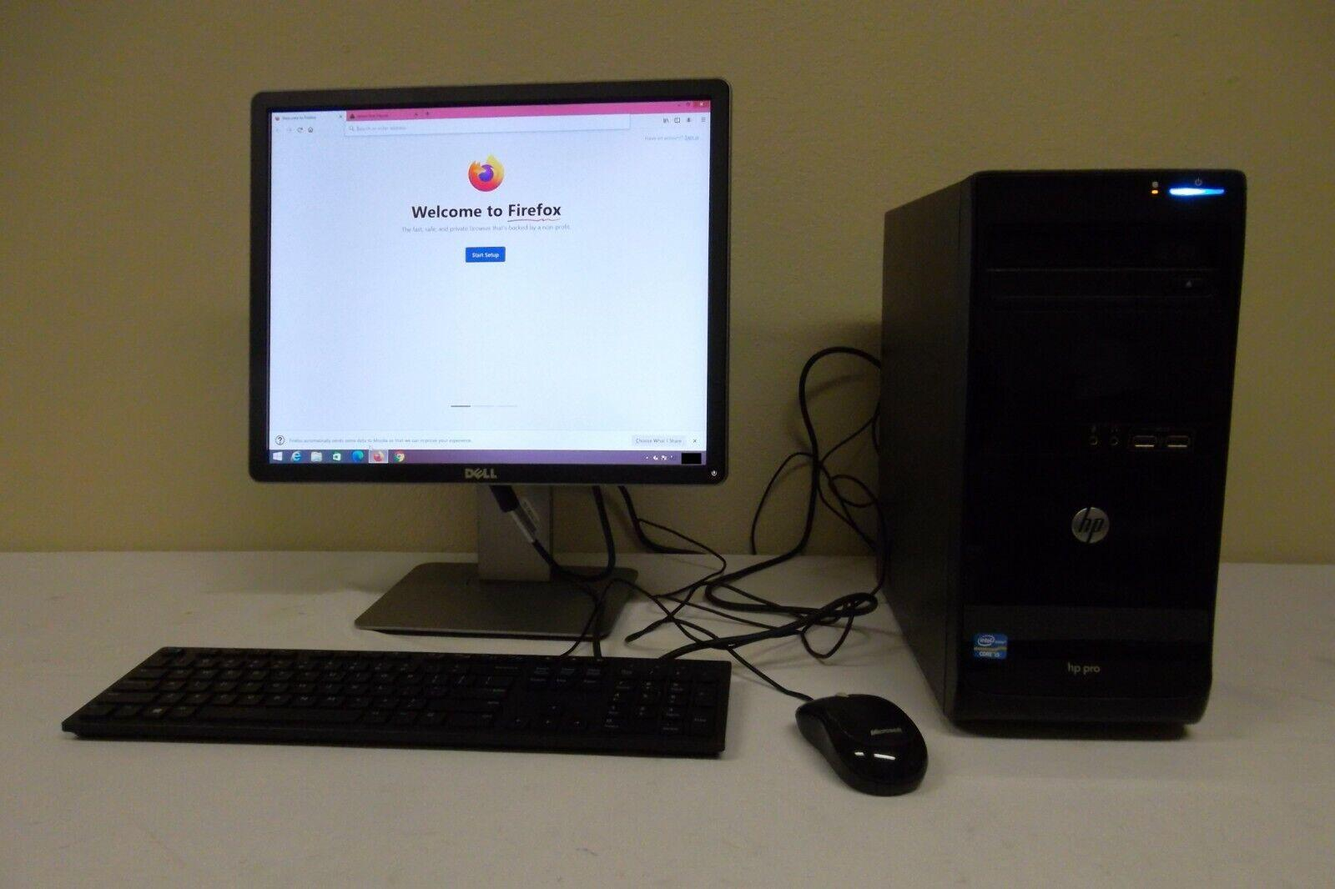DESKTOP PC: (873, 156, 1269, 747)
Monitors: (242, 79, 750, 494)
